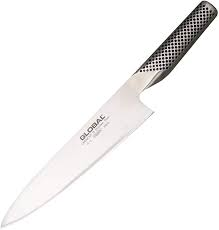knife: (1, 1, 217, 230)
